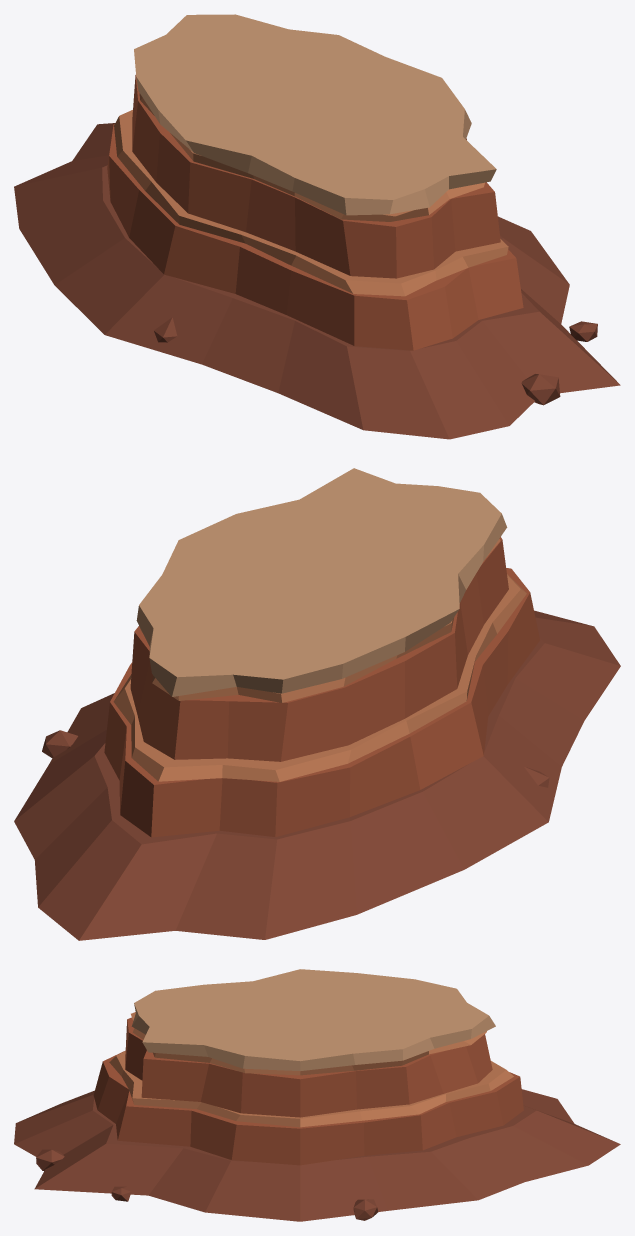
Rendered from mesa.glb.
3 views of the same model, one above another, from view 1: azimuth 30°, elevation 25°; view 2: azimuth 150°, elevation 25°; view 3: azimuth 270°, elevation 25° (orthographic). The views are drawn at different scales.
Visible parts, largest first — view 1: mesa; view 2: mesa; view 3: mesa.
Part boxes in pixels (bbox=[...]): mesa: bbox=[14, 14, 620, 439]; mesa: bbox=[14, 468, 620, 940]; mesa: bbox=[14, 969, 620, 1221].
Bounding box in the file's own units: 48.49 × 20.23 × 81.22.
